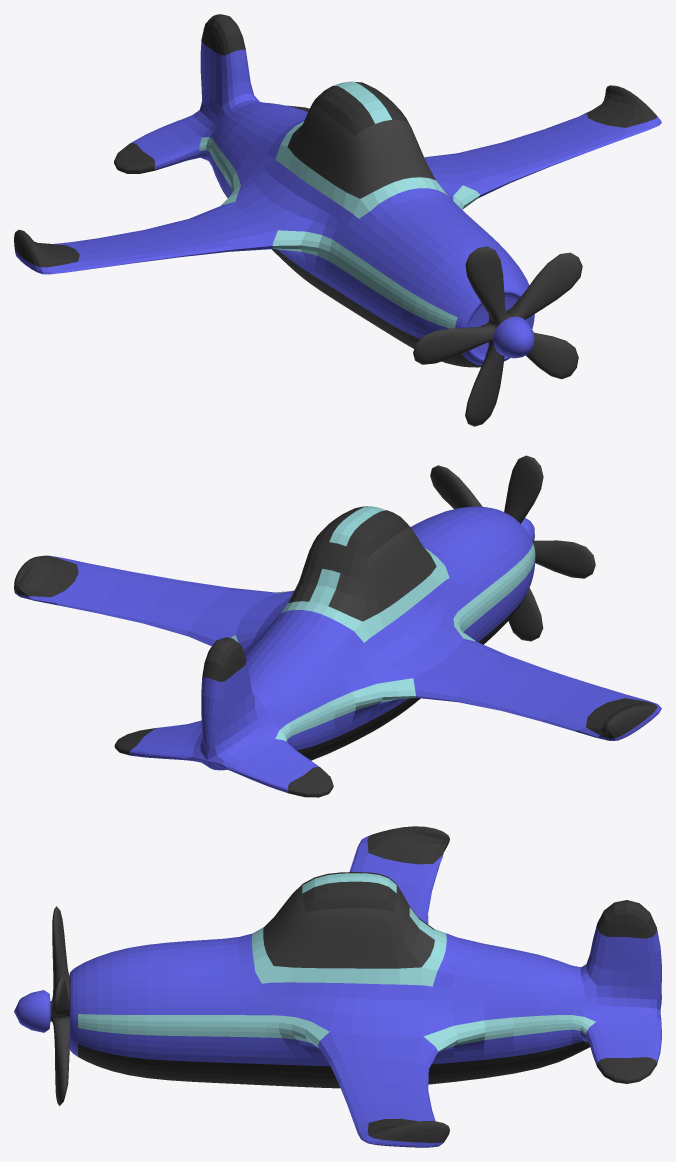
3 views of the same model, one above another, from view 1: azimuth 30°, elevation 25°; view 2: azimuth 150°, elevation 25°; view 3: azimuth 270°, elevation 25° (orthographic).
Parts seen in each view (by area): view 1: plane, Propeller, Cylinder.002; view 2: plane, Propeller; view 3: plane, Propeller, Cylinder.002.
Part boxes in pixels (bbox=[...]): plane: bbox=[14, 14, 661, 367]; Propeller: bbox=[413, 246, 582, 426]; Cylinder.002: bbox=[493, 316, 534, 358]; plane: bbox=[14, 506, 661, 797]; Propeller: bbox=[430, 455, 595, 641]; plane: bbox=[69, 826, 661, 1147]; Propeller: bbox=[50, 906, 70, 1105]; Cylinder.002: bbox=[14, 990, 50, 1032].
Size of the model in its own units: 1250 by 430 by 1118.
